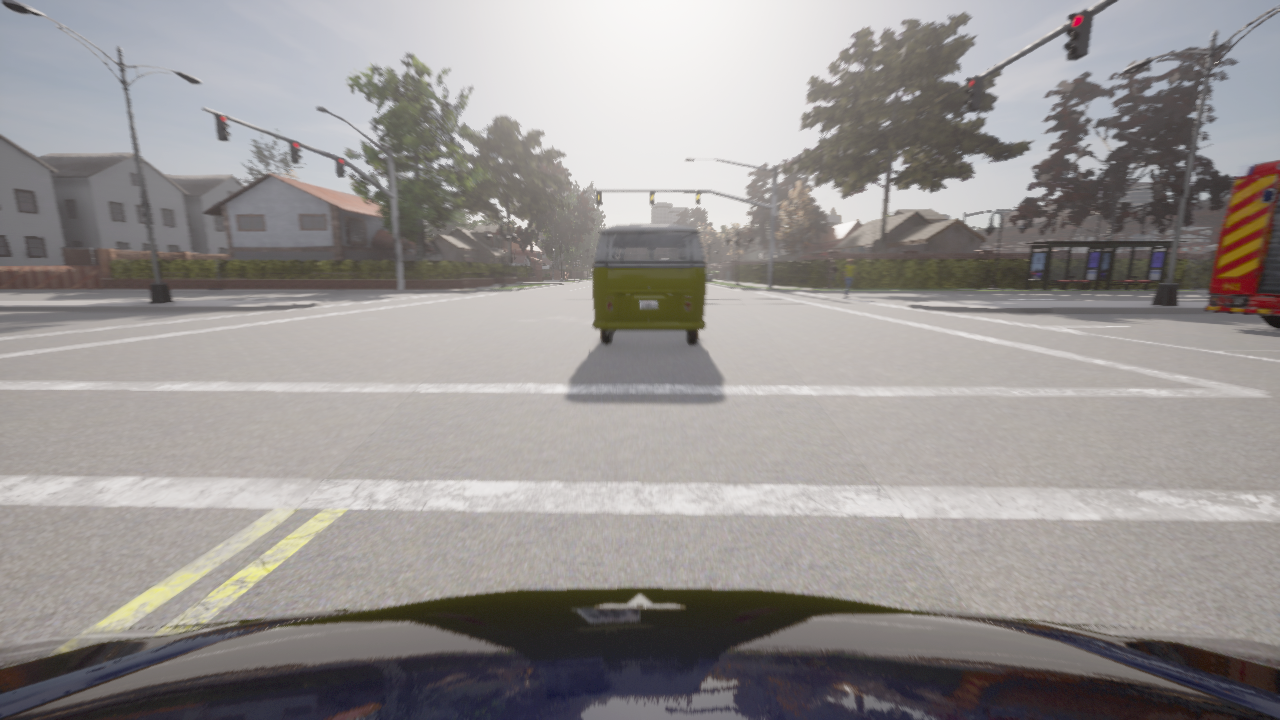cyclist: (0, 588, 1279, 719), (593, 224, 705, 344), (1205, 160, 1279, 328)
pedestrian: (842, 259, 858, 298), (826, 261, 840, 289)
